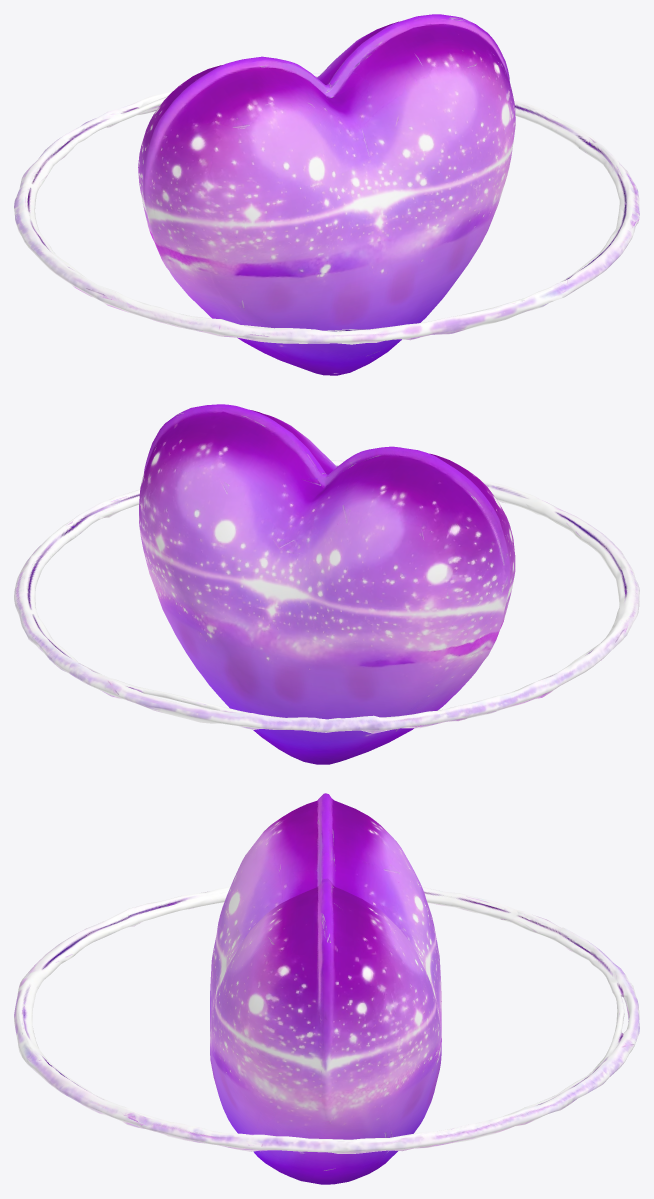
The model's file is SparkleHeart_LowPoly.glb.
3 renders of one model, top to bottom at view 1: azimuth 30°, elevation 25°; view 2: azimuth 150°, elevation 25°; view 3: azimuth 270°, elevation 25°, orthographic.
Bounding box in the file's own units: 1.89 × 1.11 × 1.88.
Materials: 1 (1 with a texture image).
